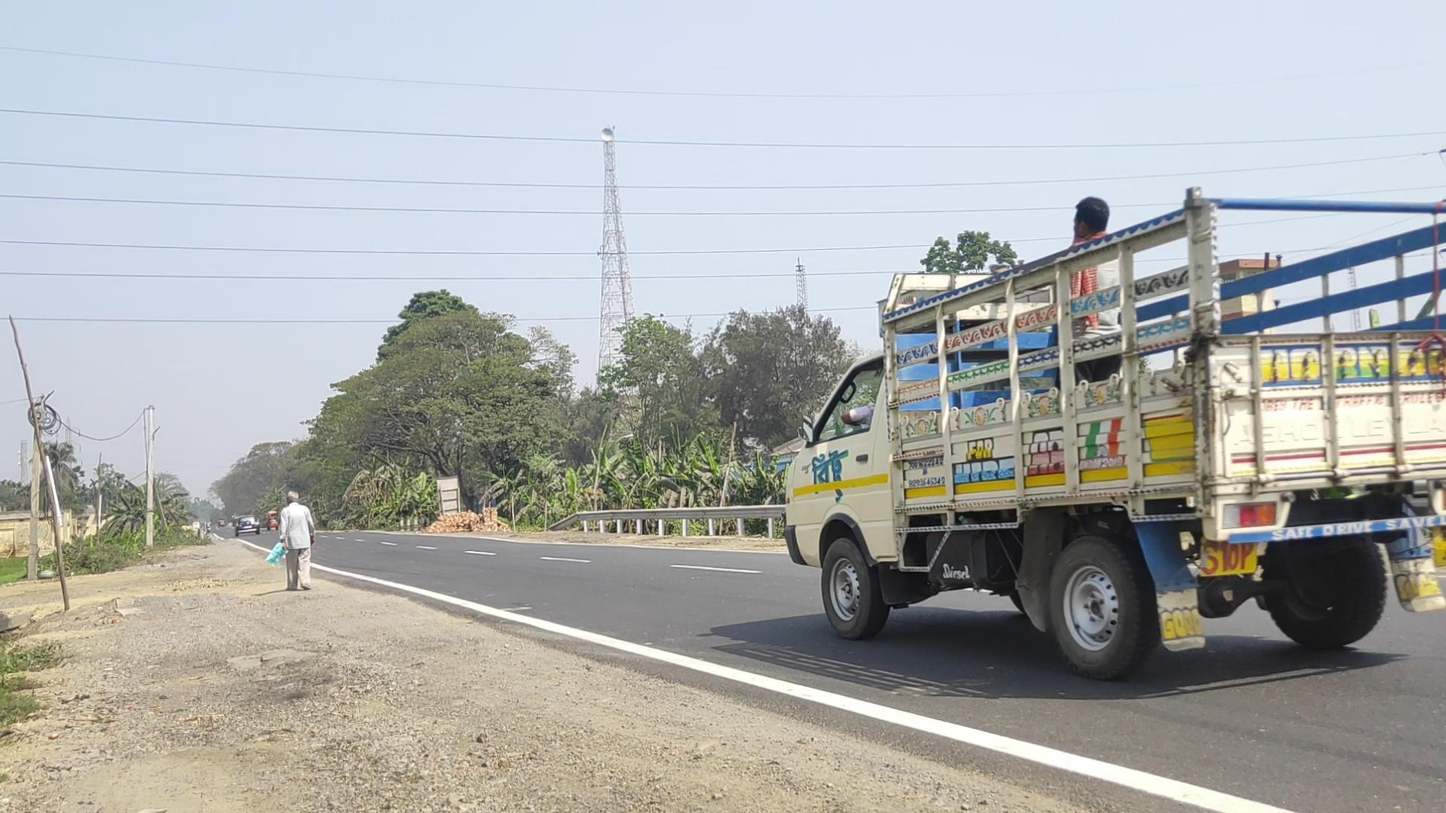car: (234, 514, 261, 536)
van: (785, 184, 1446, 681)
